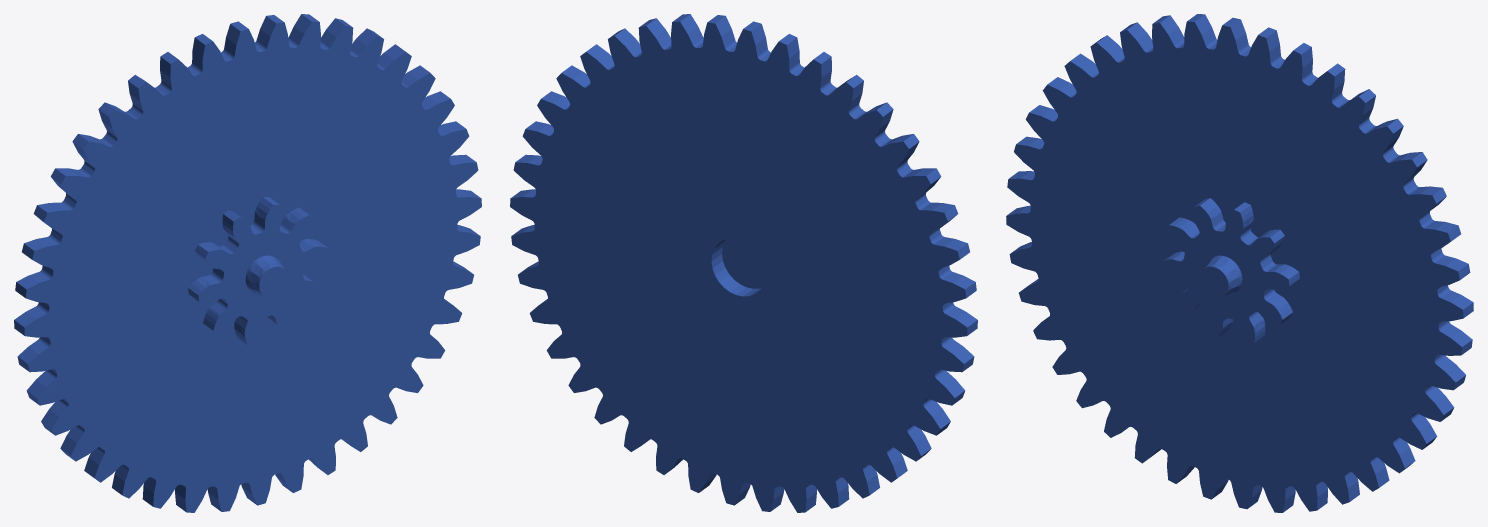
Rendered from Spur_gear_40_teeth.glb.
The picture shows the model from 3 angles, left to right: view 1: azimuth 30°, elevation 25°; view 2: azimuth 150°, elevation 25°; view 3: azimuth 330°, elevation 25°; orthographic projection.
Parts seen in each view (by area): view 1: Spur gear (40 teeth); view 2: Spur gear (40 teeth); view 3: Spur gear (40 teeth).
Part boxes in pixels (bbox=[...]): Spur gear (40 teeth): bbox=[14, 14, 481, 512]; Spur gear (40 teeth): bbox=[510, 14, 977, 512]; Spur gear (40 teeth): bbox=[1006, 14, 1473, 512].
Size of the model in its own units: 25.2 by 25.2 by 3.
